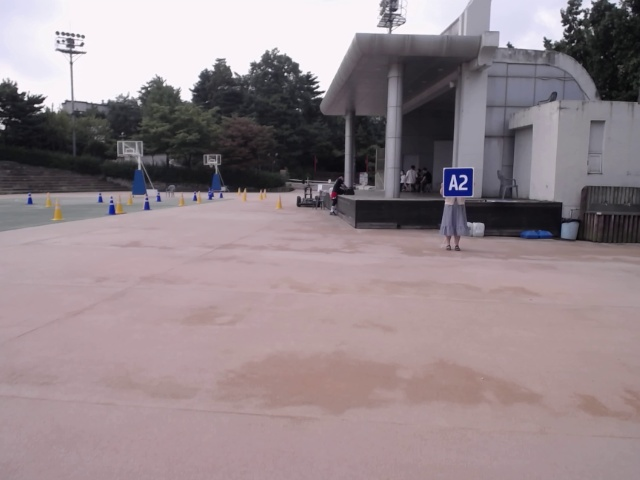delivery_a2: (443, 168, 474, 197)
